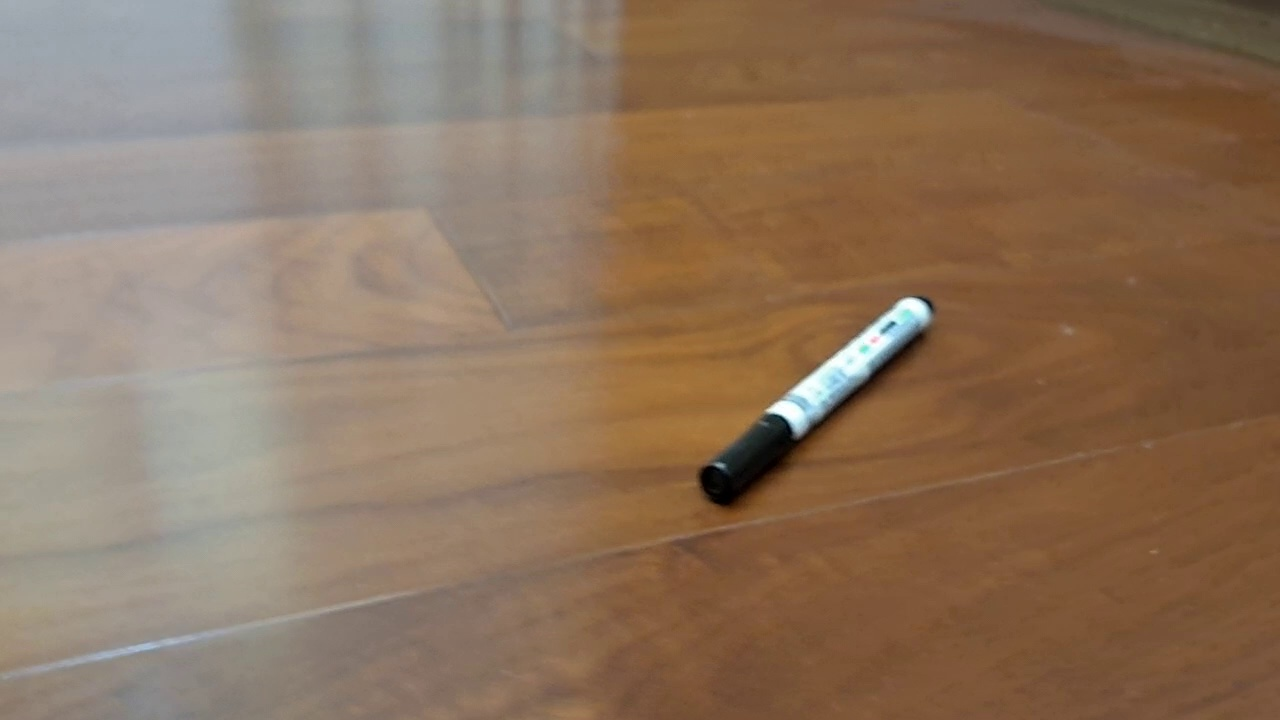pen: (698, 294, 936, 507)
